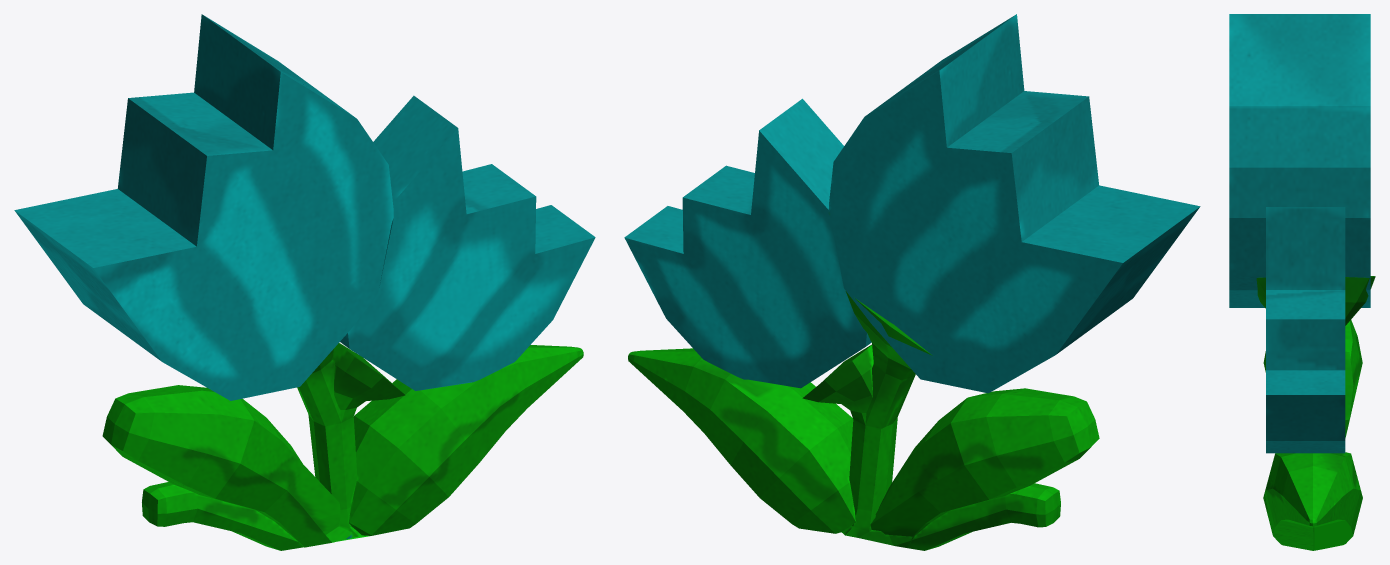
File: flor_azul.glb
3 views of the same model, side by side, from view 1: azimuth 30°, elevation 25°; view 2: azimuth 150°, elevation 25°; view 3: azimuth 270°, elevation 25° (orthographic). The views are drawn at different scales.
Visible parts, largest first — view 1: NSMBFlowerBlue; view 2: NSMBFlowerBlue; view 3: NSMBFlowerBlue.
Part boxes in pixels (x1,y1,x2,y2): NSMBFlowerBlue: (14, 14, 595, 550); NSMBFlowerBlue: (624, 14, 1200, 550); NSMBFlowerBlue: (1229, 14, 1375, 550).
Bounding box in the file's own units: 2.86 × 2.63 × 0.7557.
Materials: 1 (1 with a texture image).
